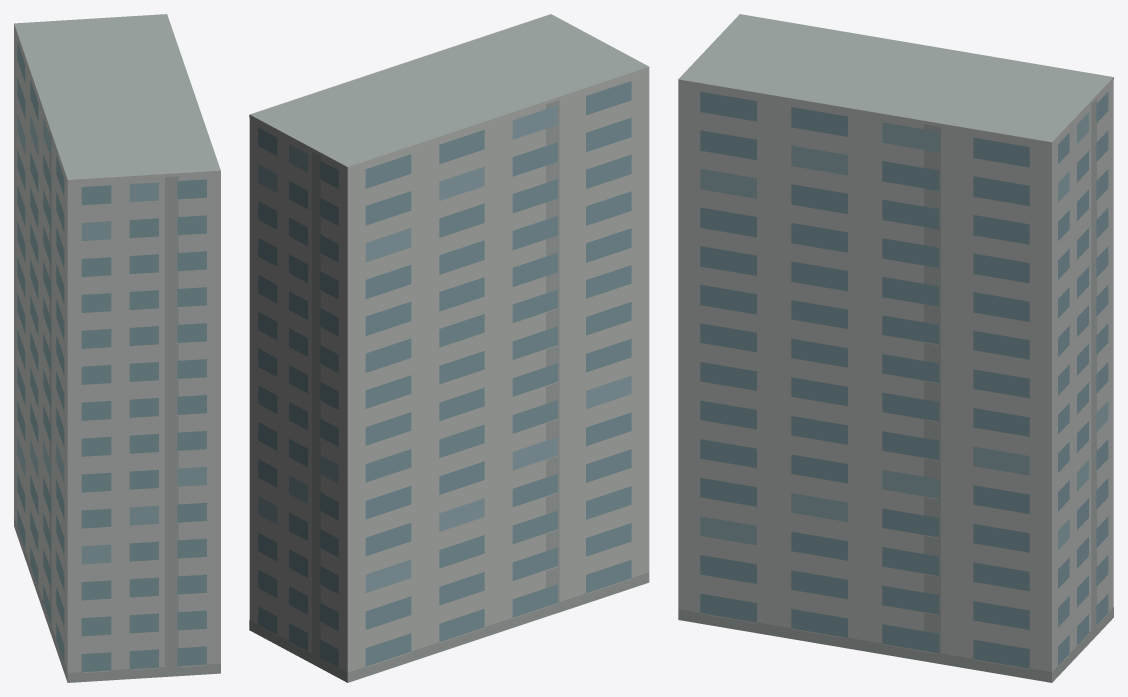
The model's file is residential-6eceffc7-879a-414e-b119-9d45b4554b1c.glb.
3 renders of one model, left to right at view 1: azimuth 30°, elevation 25°; view 2: azimuth 150°, elevation 25°; view 3: azimuth 270°, elevation 25°, orthographic. The views are drawn at different scales.
Visible parts, largest first — view 1: residential-6eceffc7-879a-414e-b119-9d45b4554b1c.tmp; view 2: residential-6eceffc7-879a-414e-b119-9d45b4554b1c.tmp; view 3: residential-6eceffc7-879a-414e-b119-9d45b4554b1c.tmp.
Boxes of the visible parts, bbox=[...] form: residential-6eceffc7-879a-414e-b119-9d45b4554b1c.tmp: bbox=[14, 14, 220, 682]; residential-6eceffc7-879a-414e-b119-9d45b4554b1c.tmp: bbox=[249, 14, 649, 682]; residential-6eceffc7-879a-414e-b119-9d45b4554b1c.tmp: bbox=[678, 14, 1113, 682].
Size of the model in its own units: 19.87 by 39 by 28.49.
